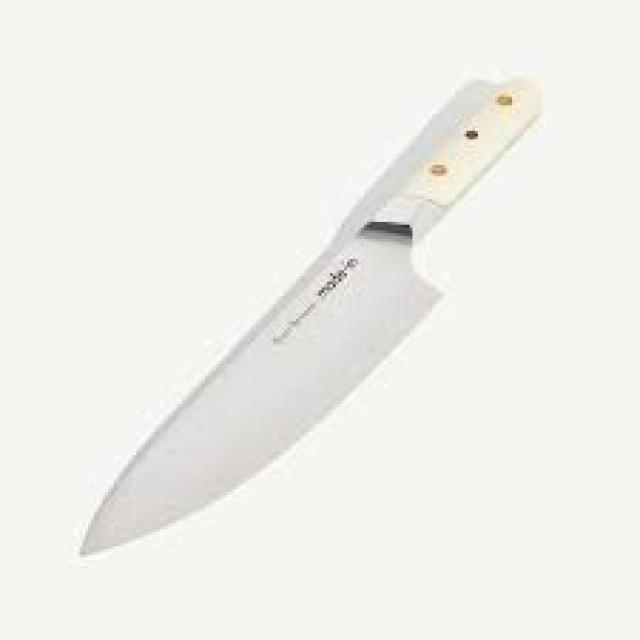Knife: (77, 69, 543, 558)
